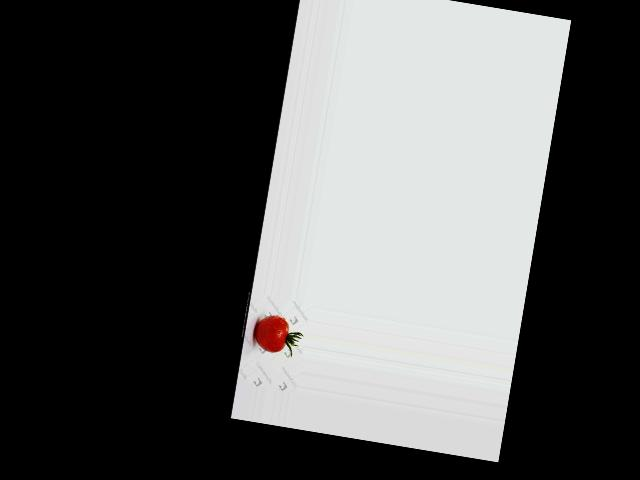tomato: (252, 313, 289, 354)
